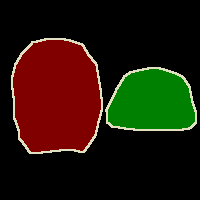hat: (12, 38, 102, 153), (106, 68, 196, 130)
